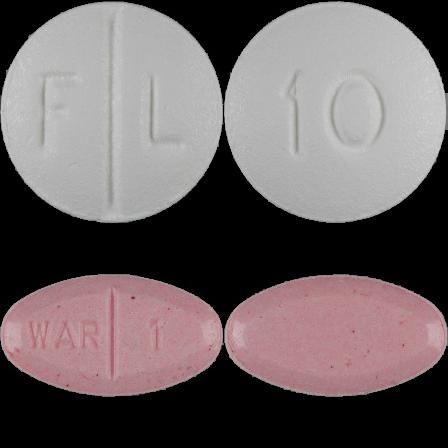50436-9803: (0, 0, 224, 224)
